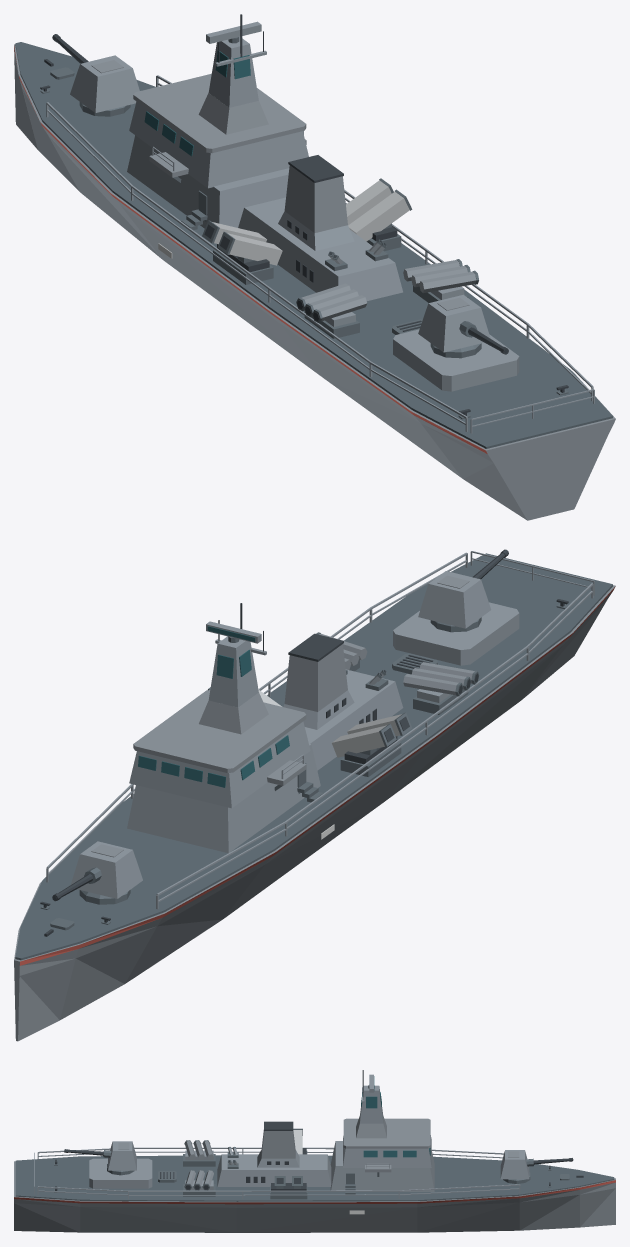
The model's file is EnemyModernCorvette.fbx.
3 views of the same model, one above another, from view 1: azimuth 30°, elevation 25°; view 2: azimuth 150°, elevation 25°; view 3: azimuth 270°, elevation 25° (orthographic). The views are drawn at different scales.
Parts seen in each view (by area): view 1: EnemyModernCorvette_Visual, BowGun_TurretPivot_Visual, StarboardMissileLauncherPivot_Visual, AftGun_TurretPivot_Visual, PortMissileLauncherPivot_Visual, StarboardTorpedoLauncherPivot_Visual, PortTorpedoLauncherPivot_Visual; view 2: EnemyModernCorvette_Visual, AftGun_TurretPivot_Visual, BowGun_TurretPivot_Visual, PortMissileLauncherPivot_Visual, PortTorpedoLauncherPivot_Visual; view 3: EnemyModernCorvette_Visual, BowGun_TurretPivot_Visual, AftGun_TurretPivot_Visual, PortTorpedoLauncherPivot_Visual, StarboardTorpedoLauncherPivot_Visual, StarboardMissileLauncherPivot_Visual, PortMissileLauncherPivot_Visual.
Boxes of the visible parts, <box> form: EnemyModernCorvette_Visual: <box>14,14,615,520</box>; BowGun_TurretPivot_Visual: <box>70,55,139,112</box>; StarboardMissileLauncherPivot_Visual: <box>346,178,412,241</box>; AftGun_TurretPivot_Visual: <box>418,294,490,352</box>; PortMissileLauncherPivot_Visual: <box>202,220,282,272</box>; StarboardTorpedoLauncherPivot_Visual: <box>403,259,478,299</box>; PortTorpedoLauncherPivot_Visual: <box>296,283,367,326</box>; EnemyModernCorvette_Visual: <box>14,551,615,1041</box>; AftGun_TurretPivot_Visual: <box>418,571,491,628</box>; BowGun_TurretPivot_Visual: <box>71,841,142,898</box>; PortMissileLauncherPivot_Visual: <box>332,712,412,764</box>; PortTorpedoLauncherPivot_Visual: <box>403,662,479,702</box>; EnemyModernCorvette_Visual: <box>14,1070,615,1232</box>; BowGun_TurretPivot_Visual: <box>500,1150,529,1179</box>; AftGun_TurretPivot_Visual: <box>108,1141,136,1170</box>; PortTorpedoLauncherPivot_Visual: <box>184,1140,213,1160</box>; StarboardTorpedoLauncherPivot_Visual: <box>184,1170,213,1190</box>; StarboardMissileLauncherPivot_Visual: <box>271,1176,306,1192</box>; PortMissileLauncherPivot_Visual: <box>293,1128,306,1154</box>.
Bounding box in the file's own units: 401 × 566 × 2000.
